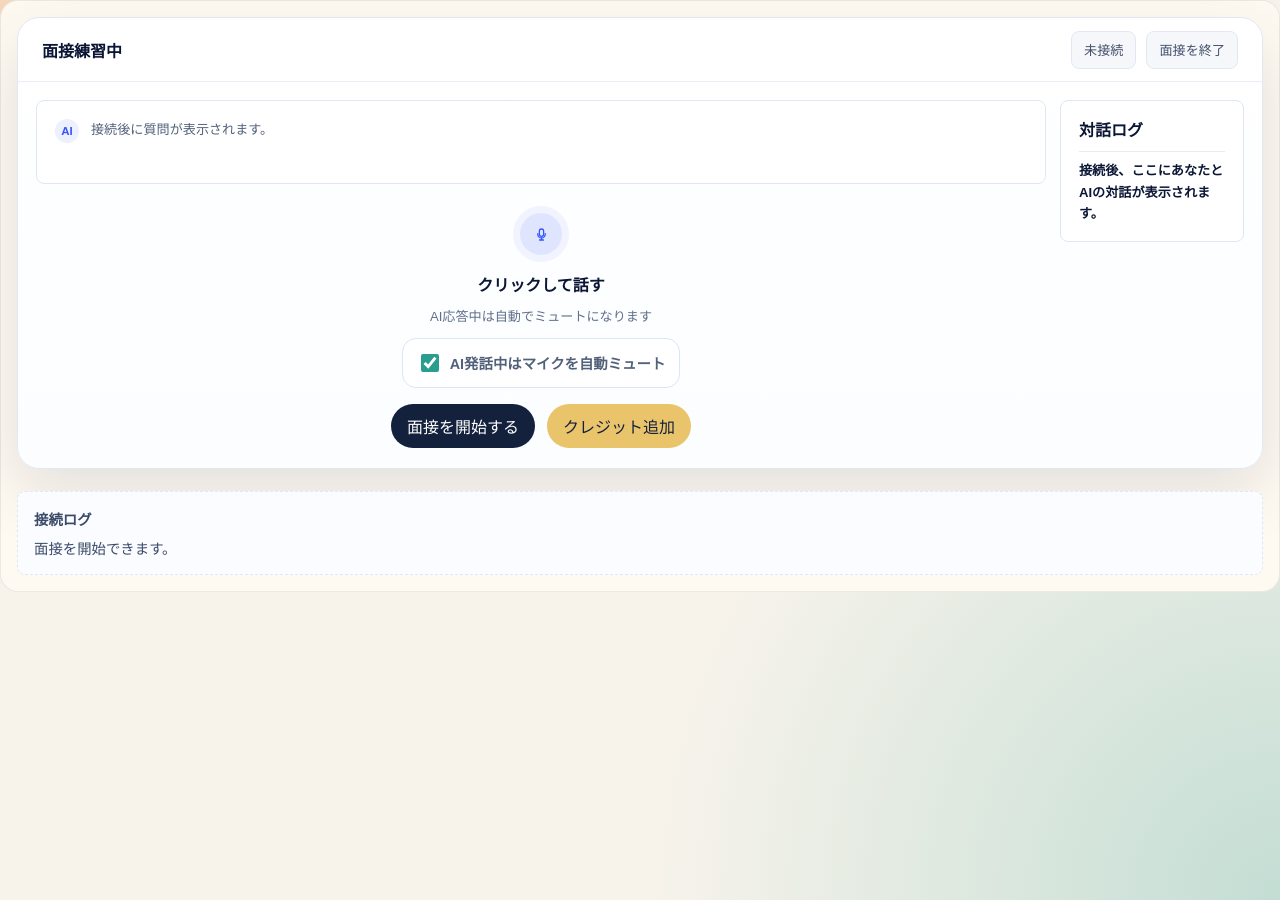
Test: SessionScreen › shows a Cloud Run startup wait notice when session creation is slow
Click the button "面接を開始する".
click(463, 426)  # box [391,404,535,448]
Wait 2500 ms
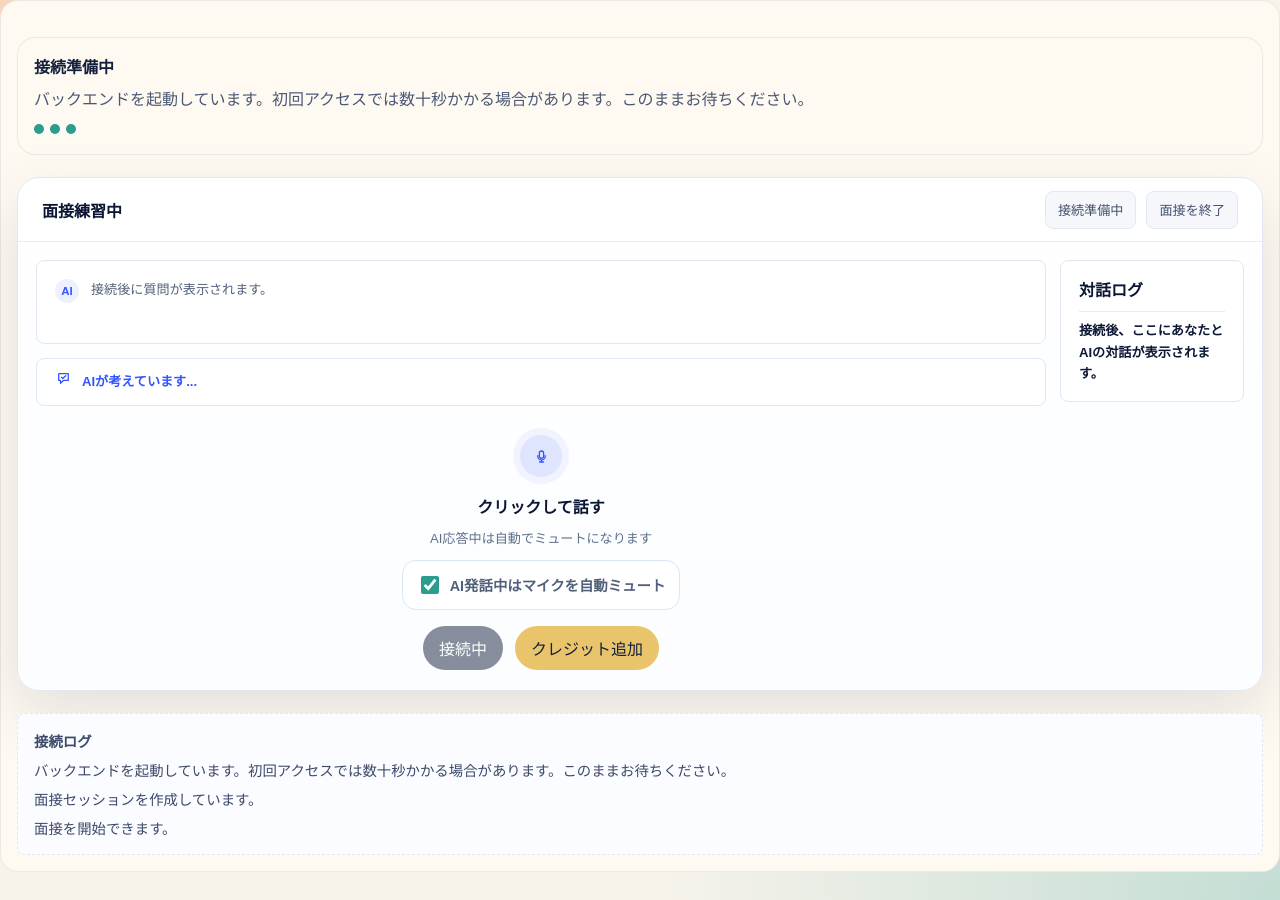
Result: the text "面接セッションを作成しています。" is shown at [34,792,262,808]
Result: the 1st text "バックエンドを起動しています。初回アクセスでは数十秒かかる場合があります。このままお待ちください。" is shown at [34,91,814,108]
